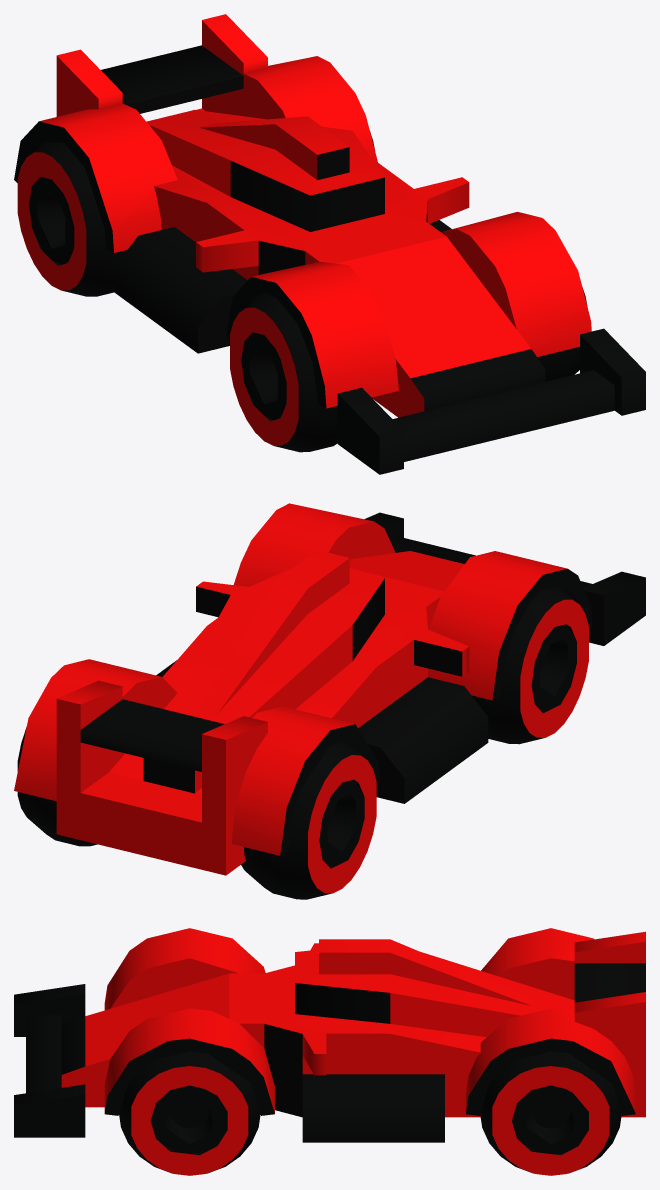
File: race-future.glb
3 views of the same model, one above another, from view 1: azimuth 30°, elevation 25°; view 2: azimuth 150°, elevation 25°; view 3: azimuth 270°, elevation 25° (orthographic). The views are drawn at different scales.
Visible parts, largest first — view 1: body, wheel-front-right, wheel-back-right, wheel-front-left; view 2: body, wheel-back-right, wheel-front-right, wheel-back-left; view 3: body, wheel-front-left, wheel-back-left.
Part boxes in pixels (x1,y1,x2,y2): body: (14,14,645,474); wheel-front-right: (230,292,337,452); wheel-back-right: (17,142,126,296); wheel-front-left: (537,287,587,381); body: (14,503,645,875); wheel-back-right: (241,741,376,899); wheel-front-right: (472,586,588,744); wheel-back-left: (17,727,97,846); body: (14,928,645,1142); wheel-front-left: (119,1051,260,1175); wheel-back-left: (480,1051,621,1175).
Size of the model in its own units: 1.2 by 0.8327 by 2.66.
1 material, 1 textured.
